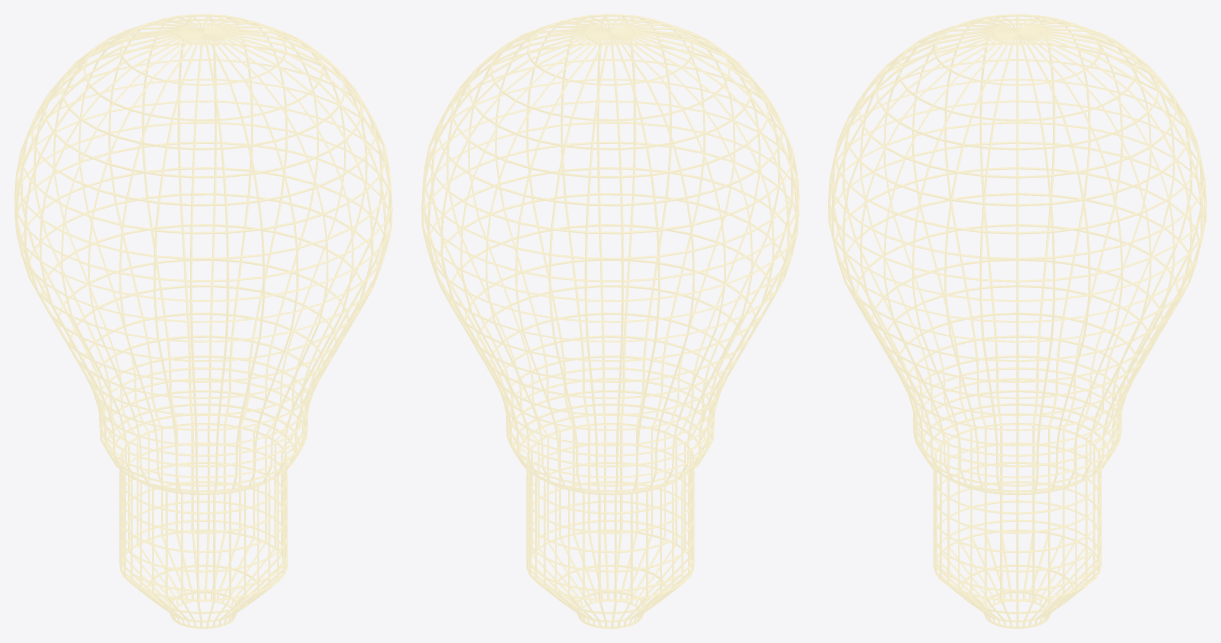
The model's file is lightbulb-glow.glb.
3 views of the same model, side by side, from view 1: azimuth 30°, elevation 25°; view 2: azimuth 150°, elevation 25°; view 3: azimuth 270°, elevation 25° (orthographic).
Parts seen in each view (by area): view 1: Cylinder; view 2: Cylinder; view 3: Cylinder.
Boxes of the visible parts, x1,y1,x2,y2 form: Cylinder: (14,14,392,628); Cylinder: (421,14,799,628); Cylinder: (828,14,1206,628).
Bounding box in the file's own units: 2.84 × 4.82 × 2.84.
